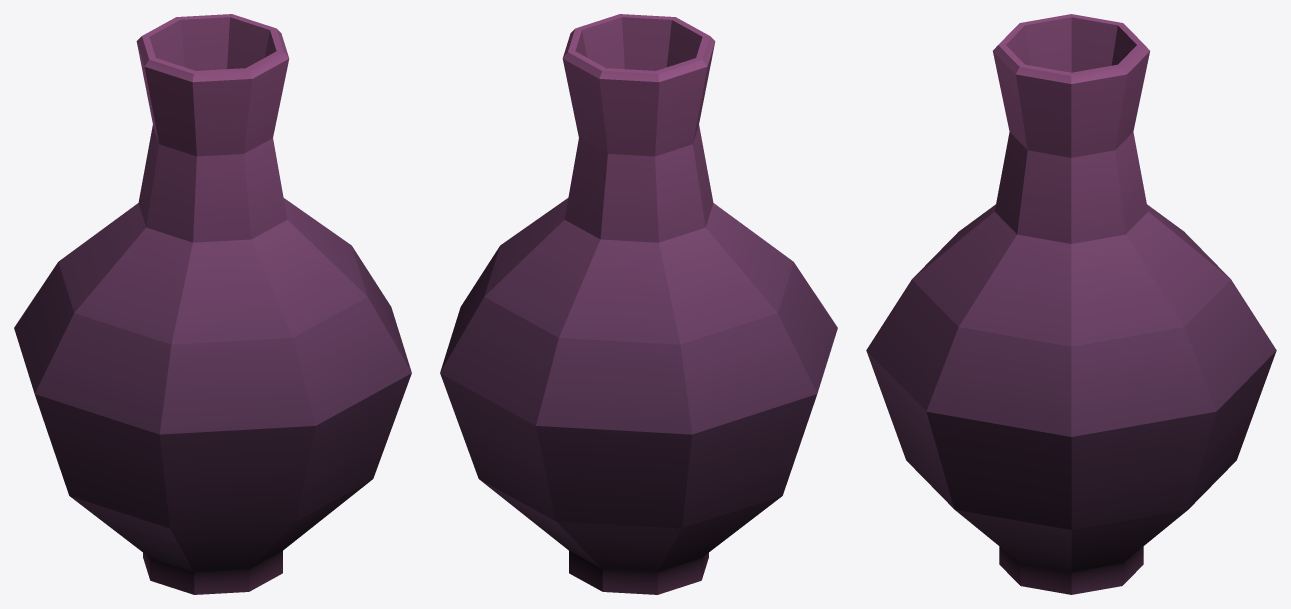
The model's file is Prop_VaseC.fbx.
The picture shows the model from 3 angles, left to right: view 1: azimuth 30°, elevation 25°; view 2: azimuth 150°, elevation 25°; view 3: azimuth 270°, elevation 25°; orthographic projection.
Parts seen in each view (by area): view 1: Prop_VaseC; view 2: Prop_VaseC; view 3: Prop_VaseC.
Part boxes in pixels (x1,y1,x2,y2): Prop_VaseC: (14, 14, 411, 594); Prop_VaseC: (440, 14, 837, 594); Prop_VaseC: (866, 14, 1276, 594).
Size of the model in its own units: 33.1 by 46.22 by 33.1.
